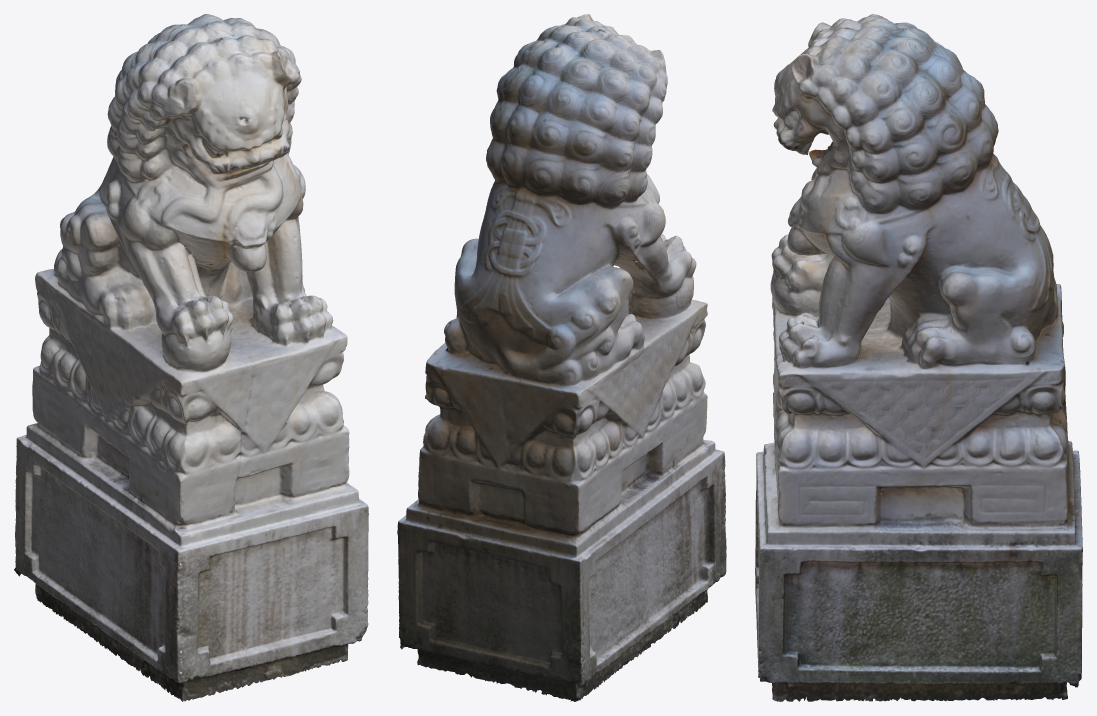
The picture shows the model from 3 angles, left to right: view 1: azimuth 30°, elevation 25°; view 2: azimuth 150°, elevation 25°; view 3: azimuth 270°, elevation 25°; orthographic projection. The views are drawn at different scales.
Parts seen in each view (by area): view 1: Lion; view 2: Lion; view 3: Lion.
Boxes of the visible parts, x1=… form: Lion: x1=14, y1=14, x2=368, y2=701; Lion: x1=397, y1=14, x2=726, y2=701; Lion: x1=755, y1=14, x2=1082, y2=701.
Bounding box in the file's own units: 0.6601 × 1.97 × 0.927.
Materials: 1 (1 with a texture image).
